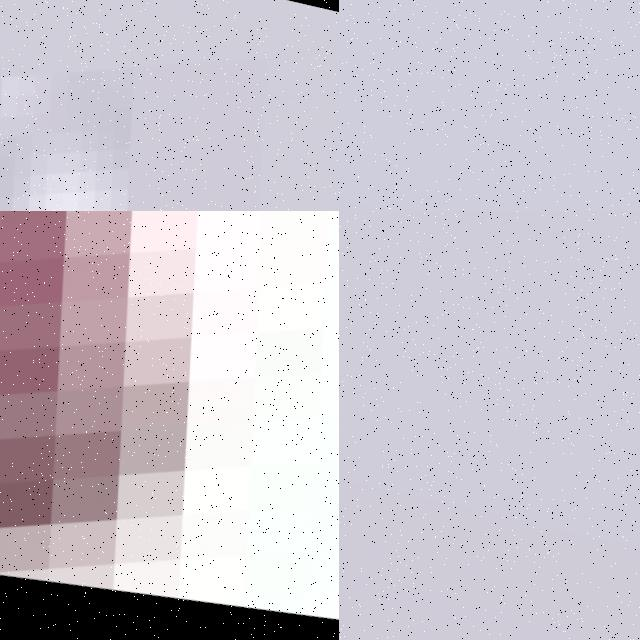0: (0, 0, 339, 211)
drone: (0, 211, 339, 640)
